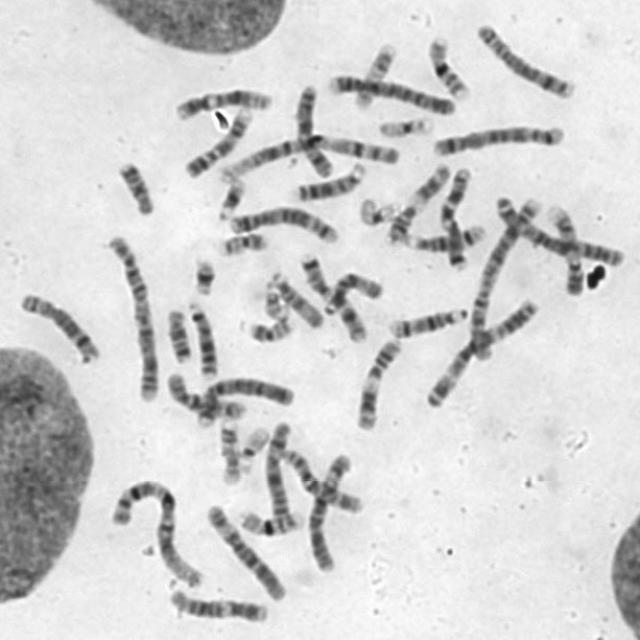A1: (106, 474, 206, 591), (215, 129, 401, 184)
A2: (465, 191, 545, 363), (103, 231, 161, 404)
A3: (421, 293, 542, 411), (492, 191, 626, 267)
B4: (324, 70, 457, 116), (191, 373, 296, 429)
B5: (428, 120, 568, 158), (225, 203, 342, 245)
C10: (278, 448, 365, 516), (163, 368, 248, 422)
C11: (383, 160, 451, 246), (352, 335, 404, 433)
C12: (166, 586, 269, 624), (172, 84, 276, 121)
C6: (203, 500, 288, 602), (304, 451, 354, 573)
C7: (296, 250, 368, 345), (436, 163, 472, 272)
C8: (471, 20, 576, 101), (15, 289, 102, 363)
C9: (180, 104, 254, 180), (544, 200, 586, 296)
D13: (290, 158, 366, 203), (184, 298, 219, 381)
D14: (385, 303, 469, 340), (399, 221, 487, 253)
D15: (265, 268, 325, 330), (318, 269, 384, 317)
E16: (424, 32, 472, 102), (235, 506, 305, 537)
E17: (350, 39, 399, 111), (216, 417, 243, 485)
E18: (112, 157, 156, 216), (163, 305, 193, 364)
F19: (374, 113, 435, 139), (355, 194, 399, 227)
F20: (243, 314, 298, 344), (215, 228, 269, 258)
G21: (213, 175, 247, 222), (189, 254, 217, 297)
G22: (235, 422, 271, 463), (260, 288, 291, 322)
X: (291, 79, 335, 179), (262, 417, 293, 523)
